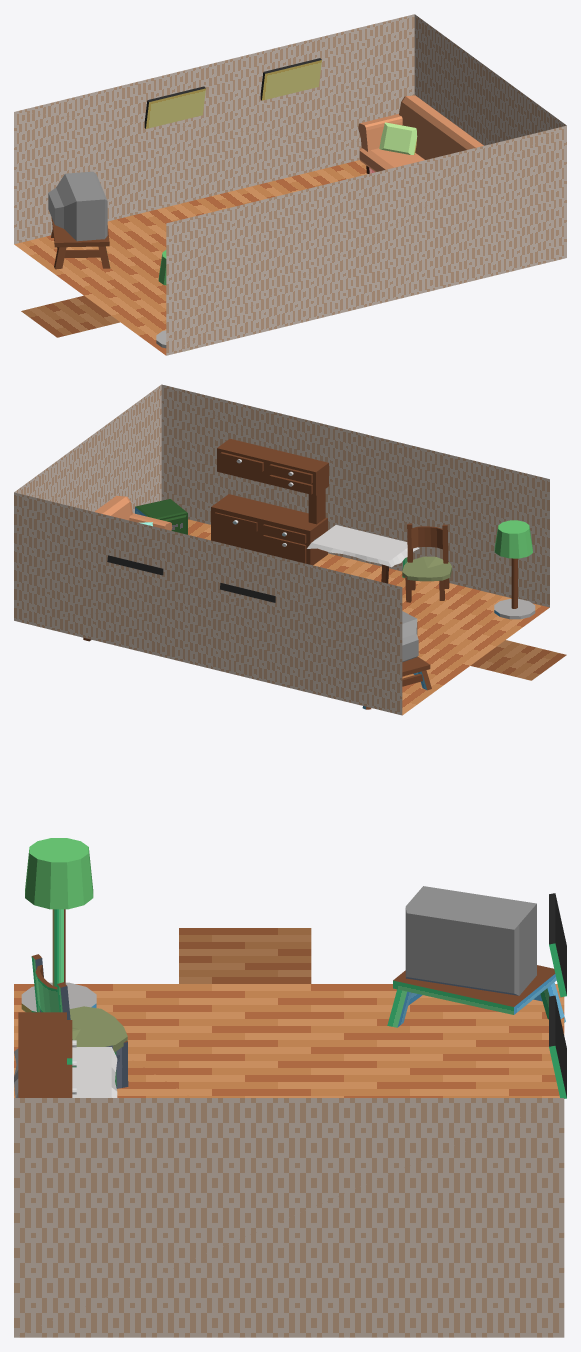
Rendered from new_apartament_room.gltf.
The picture shows the model from 3 angles, top to bottom: view 1: azimuth 30°, elevation 25°; view 2: azimuth 150°, elevation 25°; view 3: azimuth 270°, elevation 25°; orthographic projection. The views are drawn at different scales.
Visible parts, largest first — view 1: wall-col (×3), floor-col, Sofa, TV, paintings and stuff, enterance-col, mesh-col (×2); view 2: wall-col (×3), floor-col, ящики, mesh-col (×2), cuboid-col, plane-col, enterance-col, cylinder-col, TV, Sofa, paintings and stuff, cylinder; view 3: wall-col, floor-col, TV, enterance-col, ящики, cylinder-col, cuboid-col, mesh-col, paintings and stuff, plane-col, cylinder (×2).
Part boxes in pixels (x1,y1,x2,y2): wall-col (×3): (14,14,566,355); floor-col: (14,160,367,355); Sofa: (358,95,483,159); TV: (48,171,110,269); paintings and stuff: (144,58,321,128); enterance-col: (21,295,119,337); mesh-col (×2): (51,147,424,247); wall-col (×3): (14,384,549,715); floor-col: (188,519,549,715); ящики: (215,438,328,563); mesh-col (×2): (135,494,327,565); cuboid-col: (402,523,452,602); plane-col: (307,525,419,567); enterance-col: (470,640,566,680); cylinder-col: (494,520,532,558); TV: (362,611,431,709); Sofa: (94,495,172,530); paintings and stuff: (107,555,275,602); cylinder: (494,599,535,619); wall-col: (14,1098,564,1337); floor-col: (14,984,564,1097); TV: (387,886,565,1027); enterance-col: (179,928,311,983); ящики: (18,1012,72,1097); cylinder-col: (25,838,93,909); cuboid-col: (31,954,128,1088); mesh-col: (393,965,556,1014); paintings and stuff: (549,893,566,1098); plane-col: (14,1047,117,1097); cylinder (×2): (21,909,96,1012).
Size of what is drawn, in the model's own units: 1.38 by 0.4239 by 0.7849.
Materials: 1 (1 with a texture image).
